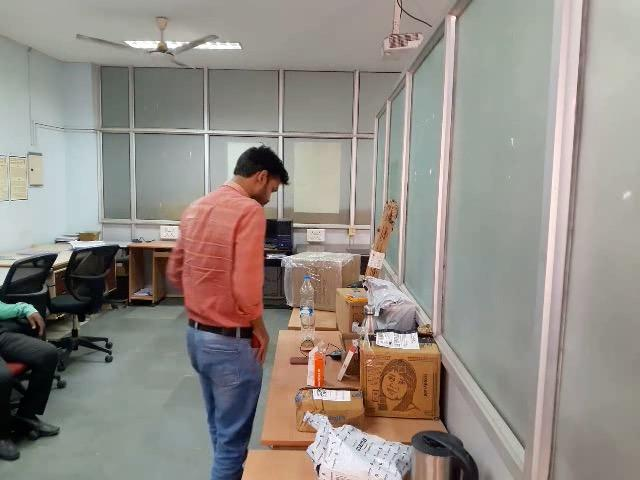shoplifting: (176, 290, 358, 384)
